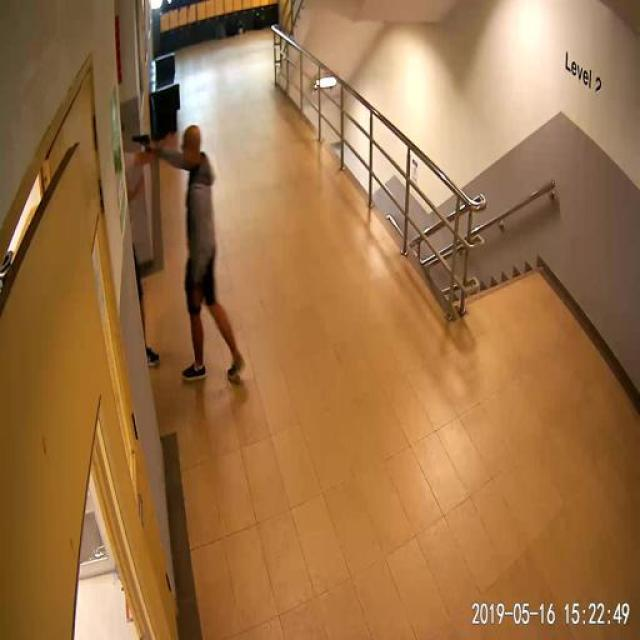Gun: (126, 122, 152, 163)
